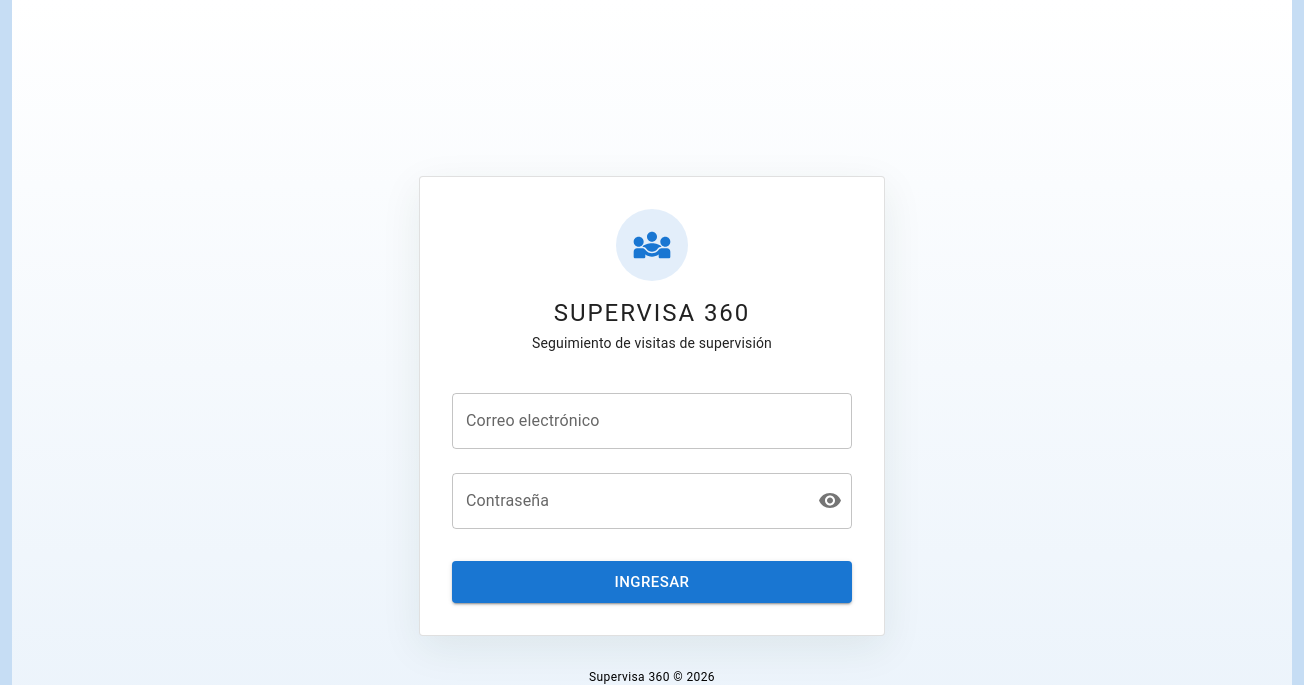
Test case: LoginPage (HU-06) › muestra un mensaje genérico cuando las credenciales son inválidas
Type "x@y.com" into the field labelled "Correo electrónico" at [652, 421], box [452,393,852,449]
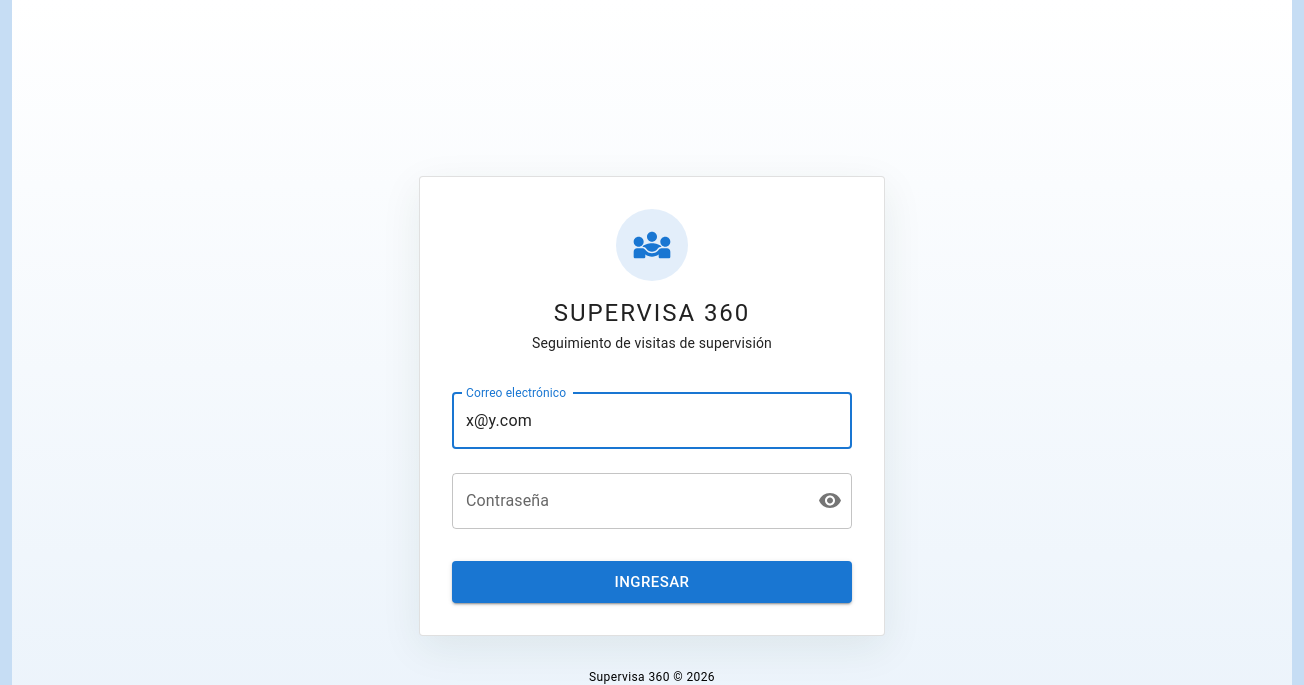
Type "algo" into the password field labelled "Contraseña" at [627, 501], box [452,473,802,529]
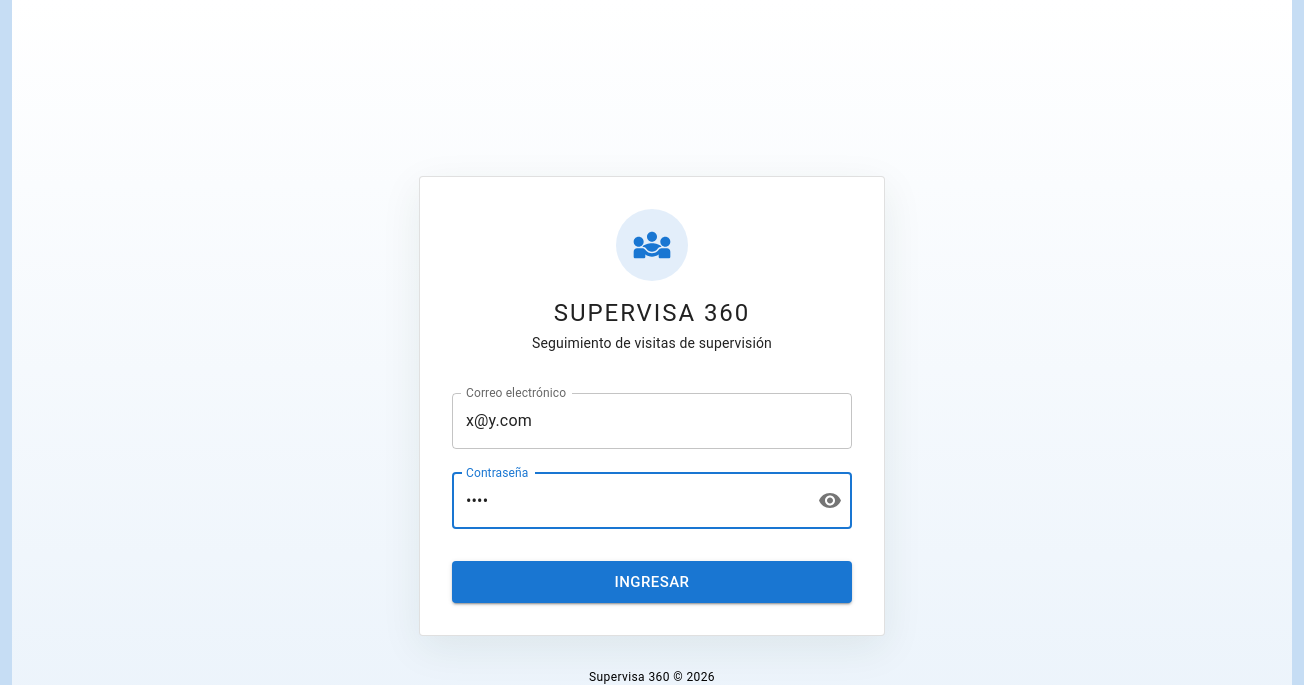
Click the button "Ingresar" at [652, 582], box [452,561,852,603]
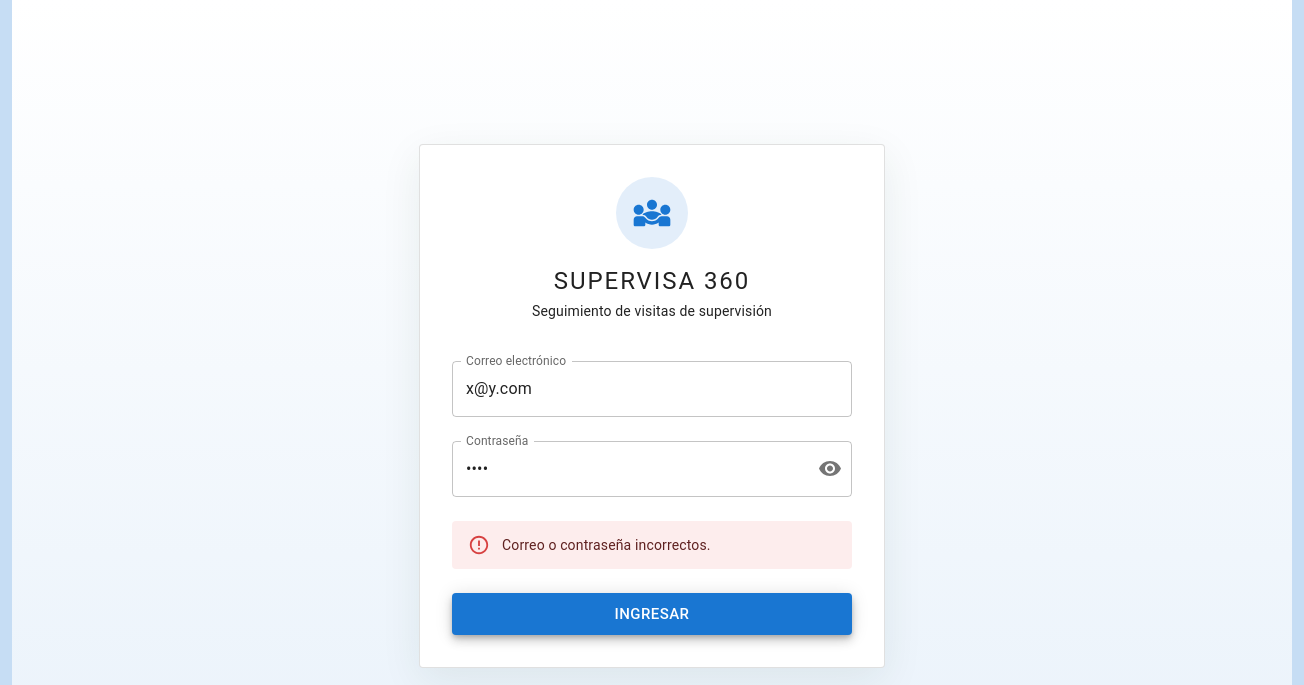
expect the text "Correo o contraseña incorrectos." is shown: met, box [502,537,711,553]
